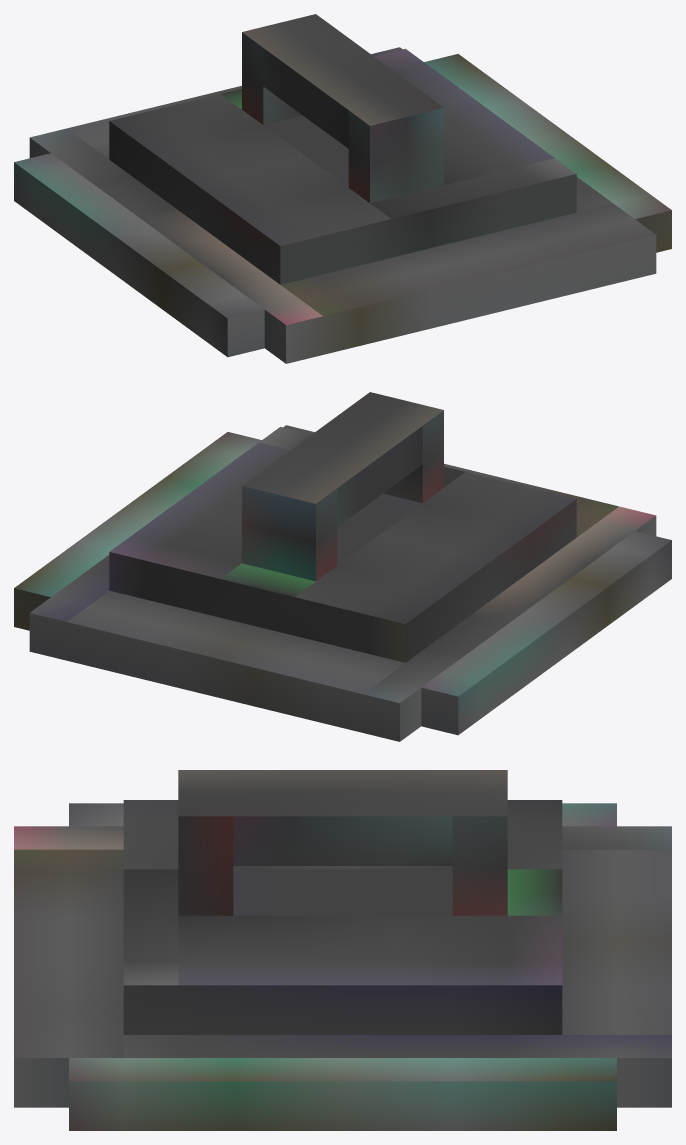
The model's file is TrashBin_Top_00.fbx.
3 views of the same model, one above another, from view 1: azimuth 30°, elevation 25°; view 2: azimuth 150°, elevation 25°; view 3: azimuth 270°, elevation 25° (orthographic). The views are drawn at different scales.
Parts seen in each view (by area): view 1: TrashBin_Top_00; view 2: TrashBin_Top_00; view 3: TrashBin_Top_00.
Boxes of the visible parts, left/top/right/bottom form: TrashBin_Top_00: left=14, top=14, right=671, bottom=363; TrashBin_Top_00: left=14, top=392, right=671, bottom=741; TrashBin_Top_00: left=14, top=770, right=671, bottom=1130.
Size of the model in its own units: 60 by 20 by 60.
